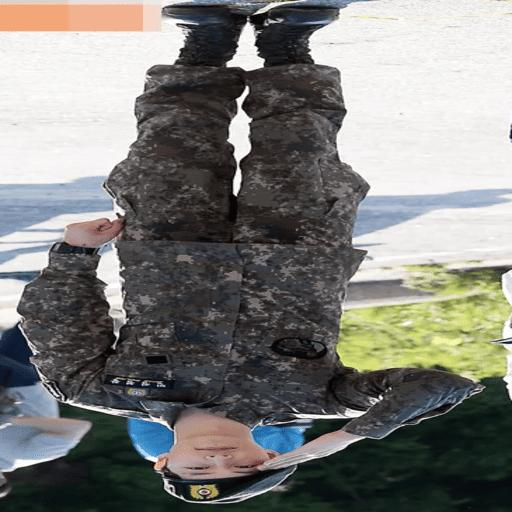korea army: (15, 0, 486, 504), (15, 9, 487, 504)
